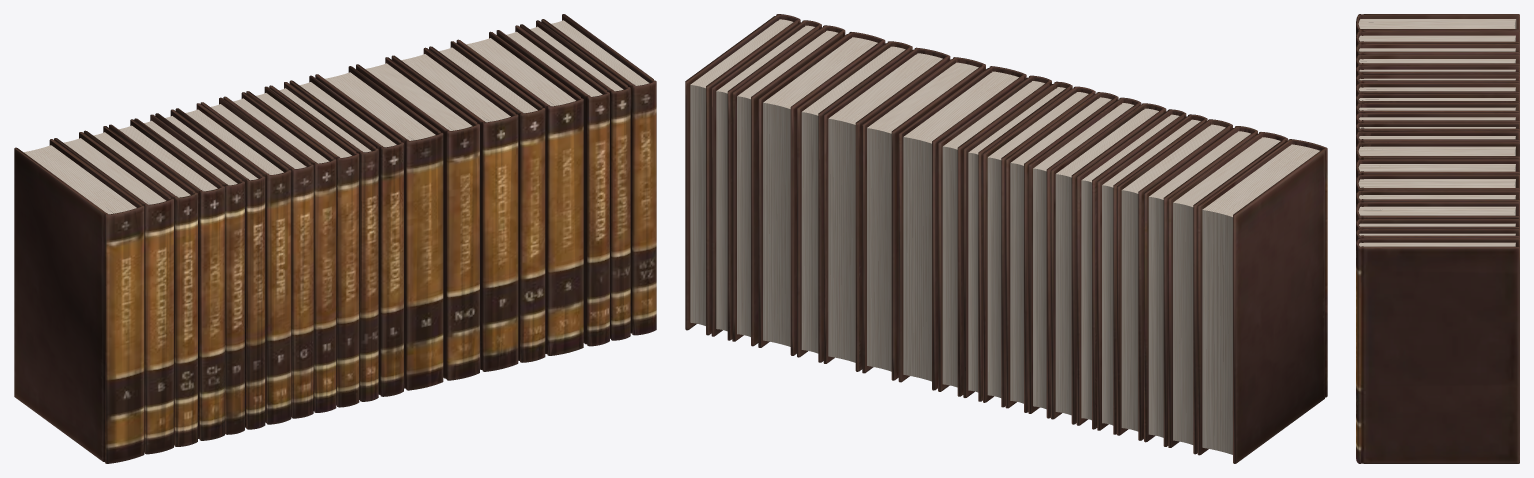
Rendered from ph-book-set.glb.
The picture shows the model from 3 angles, left to right: view 1: azimuth 30°, elevation 25°; view 2: azimuth 150°, elevation 25°; view 3: azimuth 270°, elevation 25°; orthographic projection. The views are drawn at different scales.
Parts seen in each view (by area): view 1: book_encyclopedia_set_01_book01; view 2: book_encyclopedia_set_01_book01; view 3: book_encyclopedia_set_01_book01.
Boxes of the visible parts, <box> form: book_encyclopedia_set_01_book01: <box>14,14,656,463</box>; book_encyclopedia_set_01_book01: <box>685,14,1327,463</box>; book_encyclopedia_set_01_book01: <box>1356,14,1519,463</box>.
Bounding box in the file's own units: 0.5513 × 0.2374 × 0.1631.
2 materials, 2 textured.
